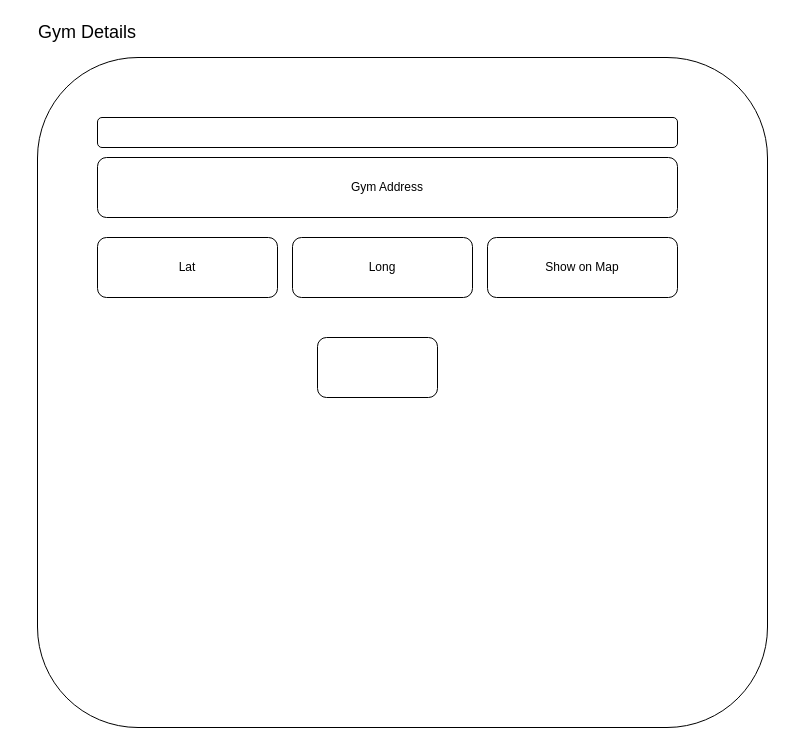
The diagram is 785 pixels wide and 745 high, and some of its shapes have lost their labels. Here are the shapes that lost their labels. From the top down, the box of each, then its label:
(96, 116, 678, 148): Gym Name
(316, 336, 438, 398): Save
